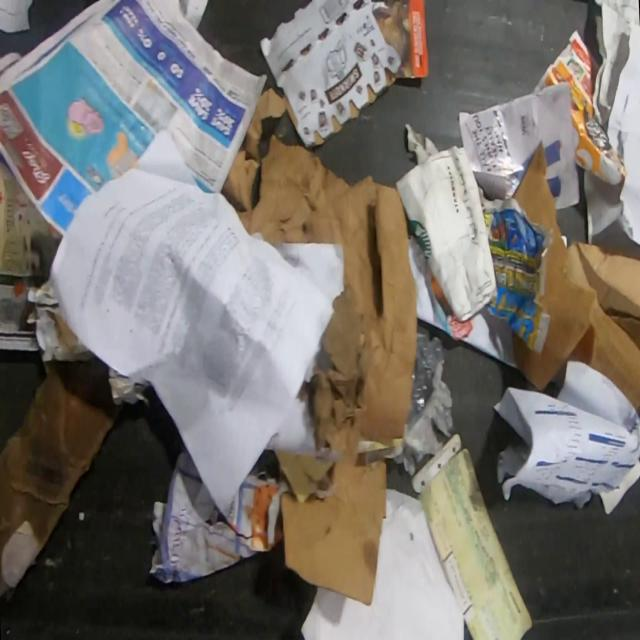cardboard: (237, 134, 418, 605), (511, 141, 640, 419), (0, 355, 121, 608), (259, 0, 428, 148), (394, 123, 498, 321), (220, 87, 286, 211)
soft_plastic: (407, 324, 444, 426)
